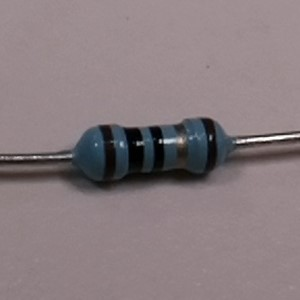black_band: (121, 124, 146, 177), (146, 124, 168, 177)
brown_band: (96, 120, 119, 188), (197, 115, 221, 178)
gold_band: (172, 121, 191, 173)
